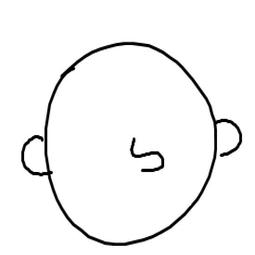ear: (15, 124, 53, 179), (208, 116, 249, 163)
nose: (119, 127, 166, 178)
